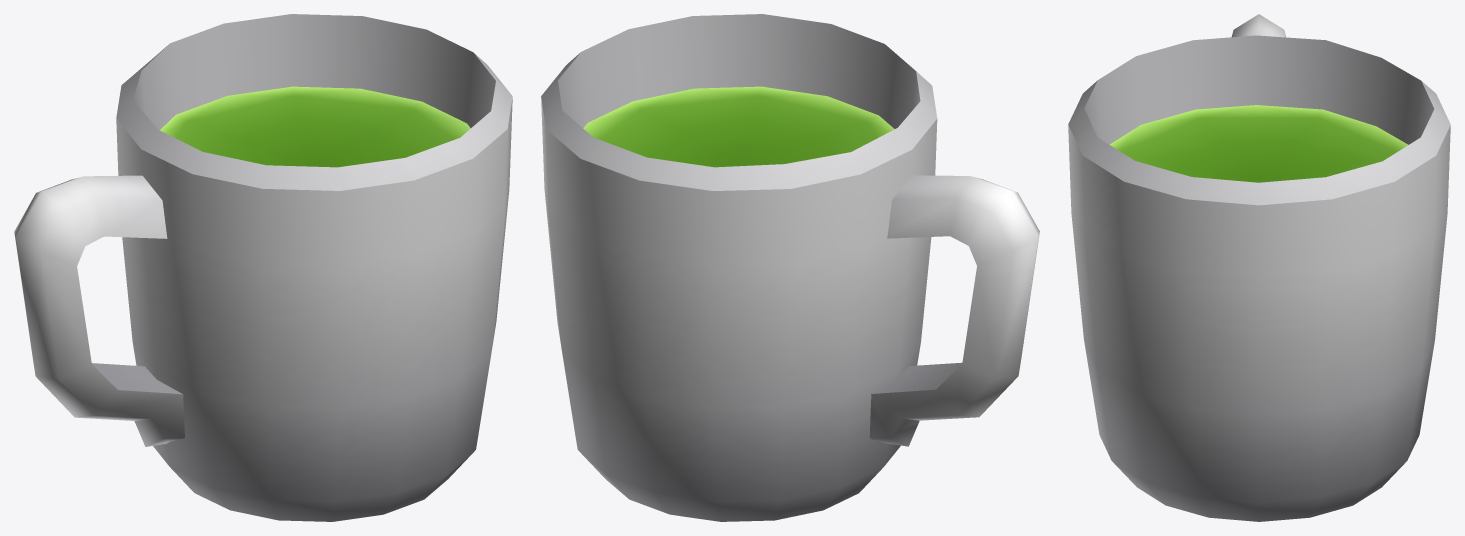
The model's file is m_Mug01_Tea02.fbx.
The picture shows the model from 3 angles, left to right: view 1: azimuth 30°, elevation 25°; view 2: azimuth 150°, elevation 25°; view 3: azimuth 270°, elevation 25°; orthographic projection. The views are drawn at different scales.
Parts seen in each view (by area): view 1: m_Mug01_Tea02; view 2: m_Mug01_Tea02; view 3: m_Mug01_Tea02.
Part boxes in pixels (left/top/right/bottom): m_Mug01_Tea02: left=14, top=14, right=512, bottom=521; m_Mug01_Tea02: left=541, top=14, right=1039, bottom=521; m_Mug01_Tea02: left=1068, top=14, right=1450, bottom=521.
Size of the model in its own units: 15.22 by 11.5 by 11.16.
